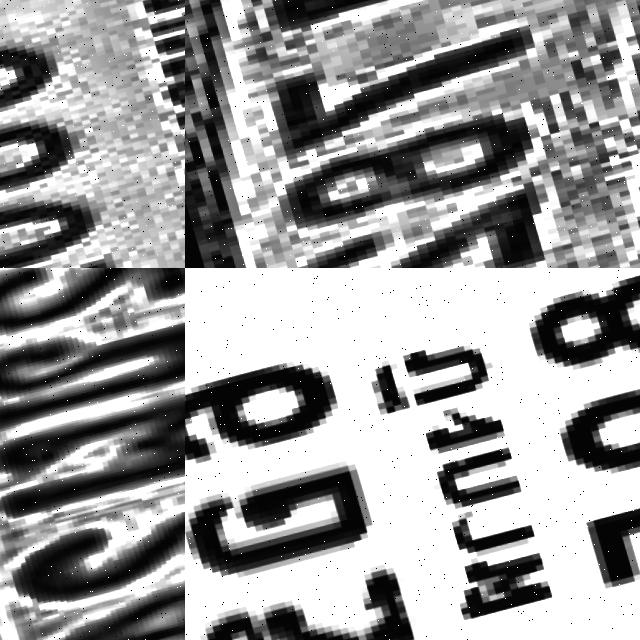license-plate: (185, 268, 640, 640), (185, 0, 640, 268), (0, 268, 185, 640), (0, 0, 185, 268)
